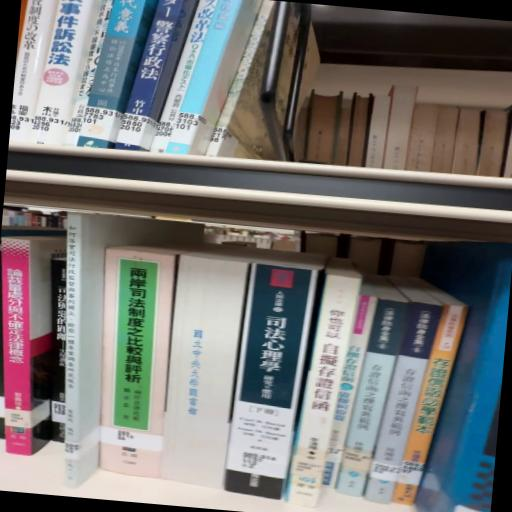backward: (162, 254, 249, 490)
book: (228, 260, 327, 505), (286, 267, 367, 512), (1, 226, 68, 458)
